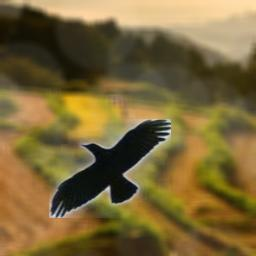Crow: (49, 119, 171, 218)
